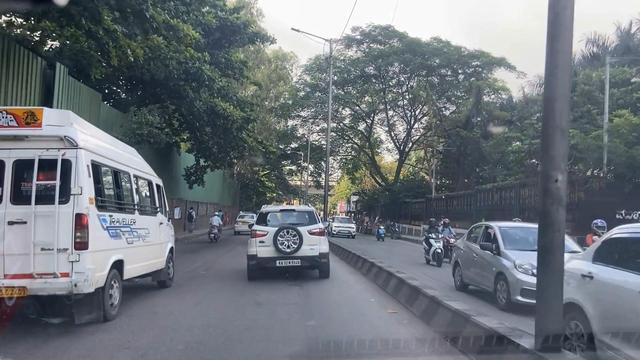HMV: (0, 103, 176, 310)
LMV: (243, 206, 333, 283)
